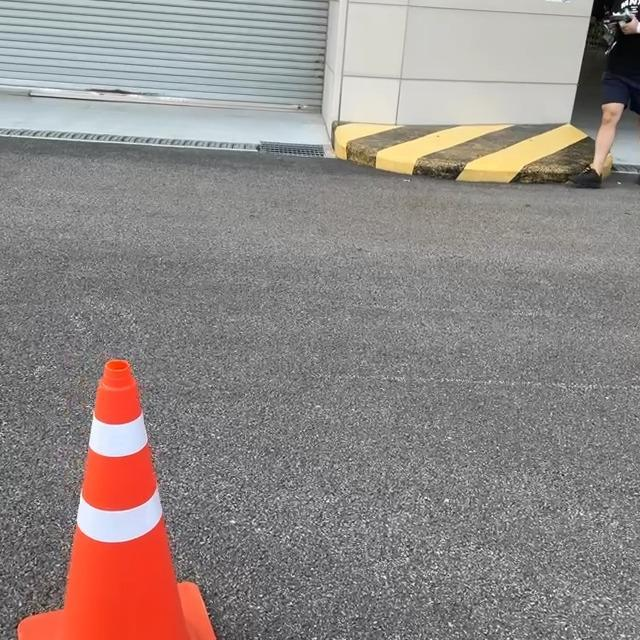fallen_object: (49, 323, 168, 640)
